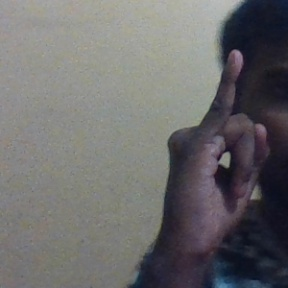I: (164, 50, 269, 256)
